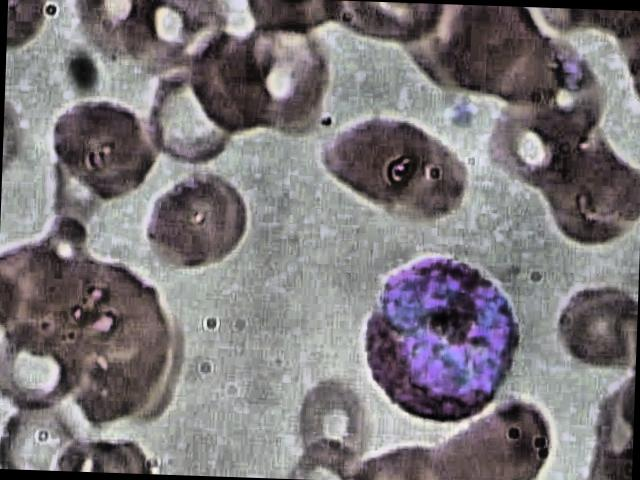Platelets: (446, 96, 483, 132)
RBC: (215, 17, 346, 136), (42, 96, 158, 204), (322, 106, 438, 213), (362, 132, 478, 238), (426, 393, 564, 480), (148, 54, 250, 165), (482, 93, 586, 200), (276, 369, 375, 480), (0, 231, 97, 342), (540, 146, 640, 253), (0, 304, 92, 420), (74, 255, 172, 362), (140, 165, 238, 271), (436, 5, 542, 94), (548, 274, 638, 371), (127, 0, 227, 76), (68, 0, 168, 74), (186, 164, 252, 268)
WBC: (347, 243, 532, 430)
